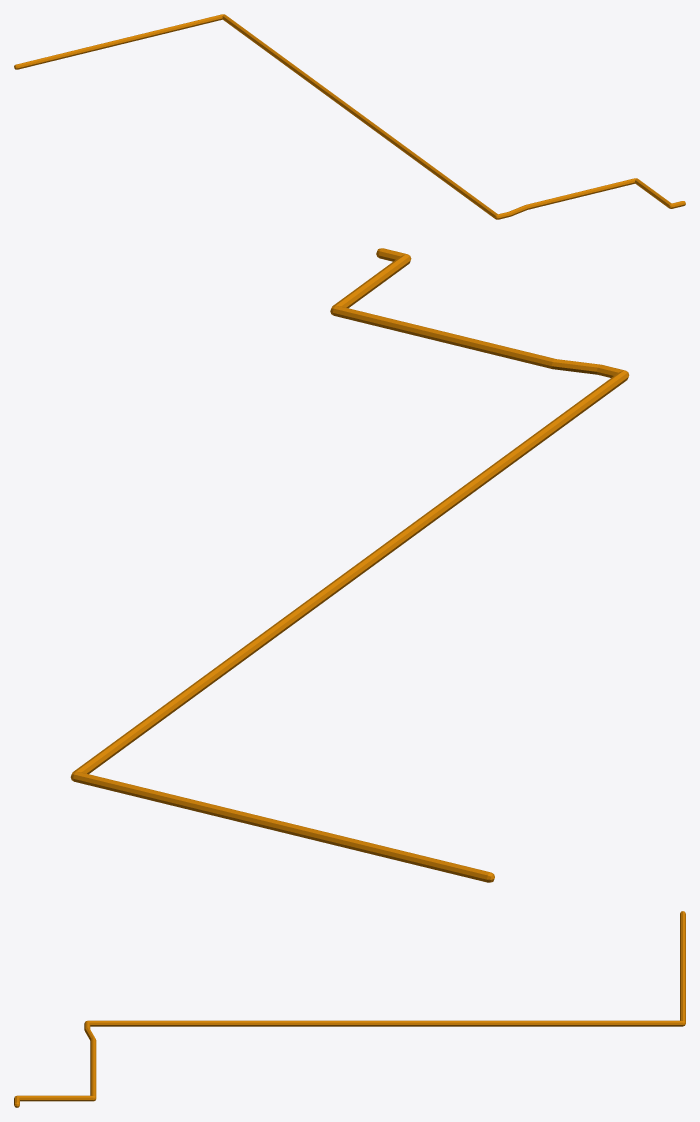
3 views of the same model, one above another, from view 1: azimuth 30°, elevation 25°; view 2: azimuth 150°, elevation 25°; view 3: azimuth 270°, elevation 25° (orthographic). The views are drawn at different scales.
Bounding box in the file's own units: 1501 × 20 × 2200.
